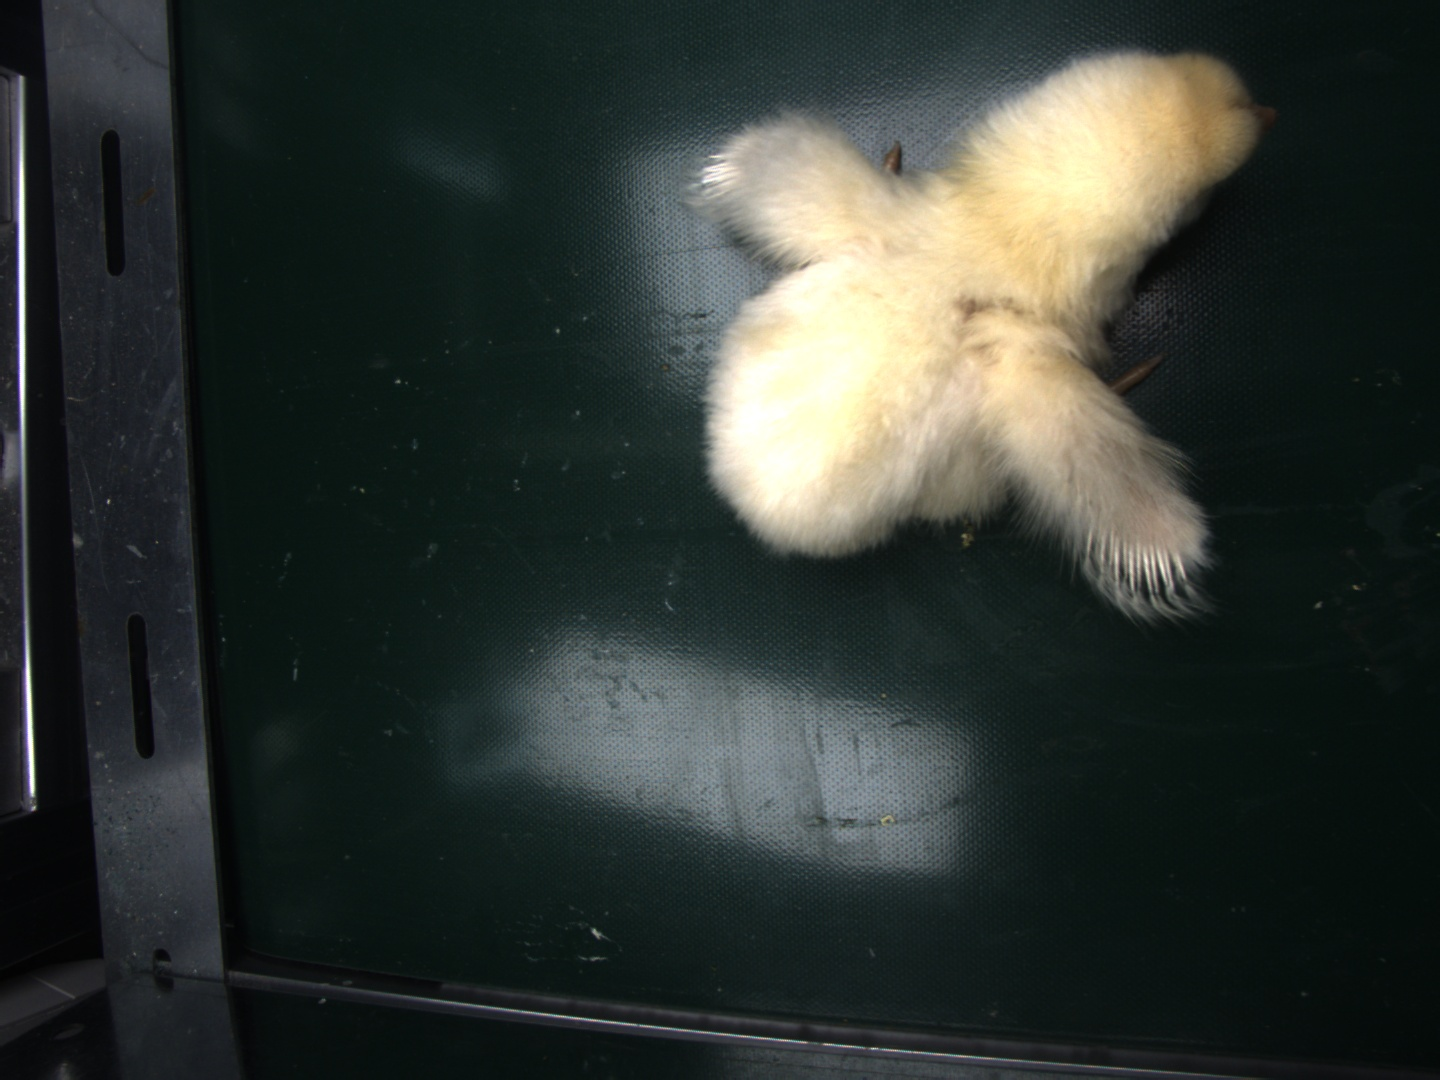male: (1092, 530, 1189, 604)
